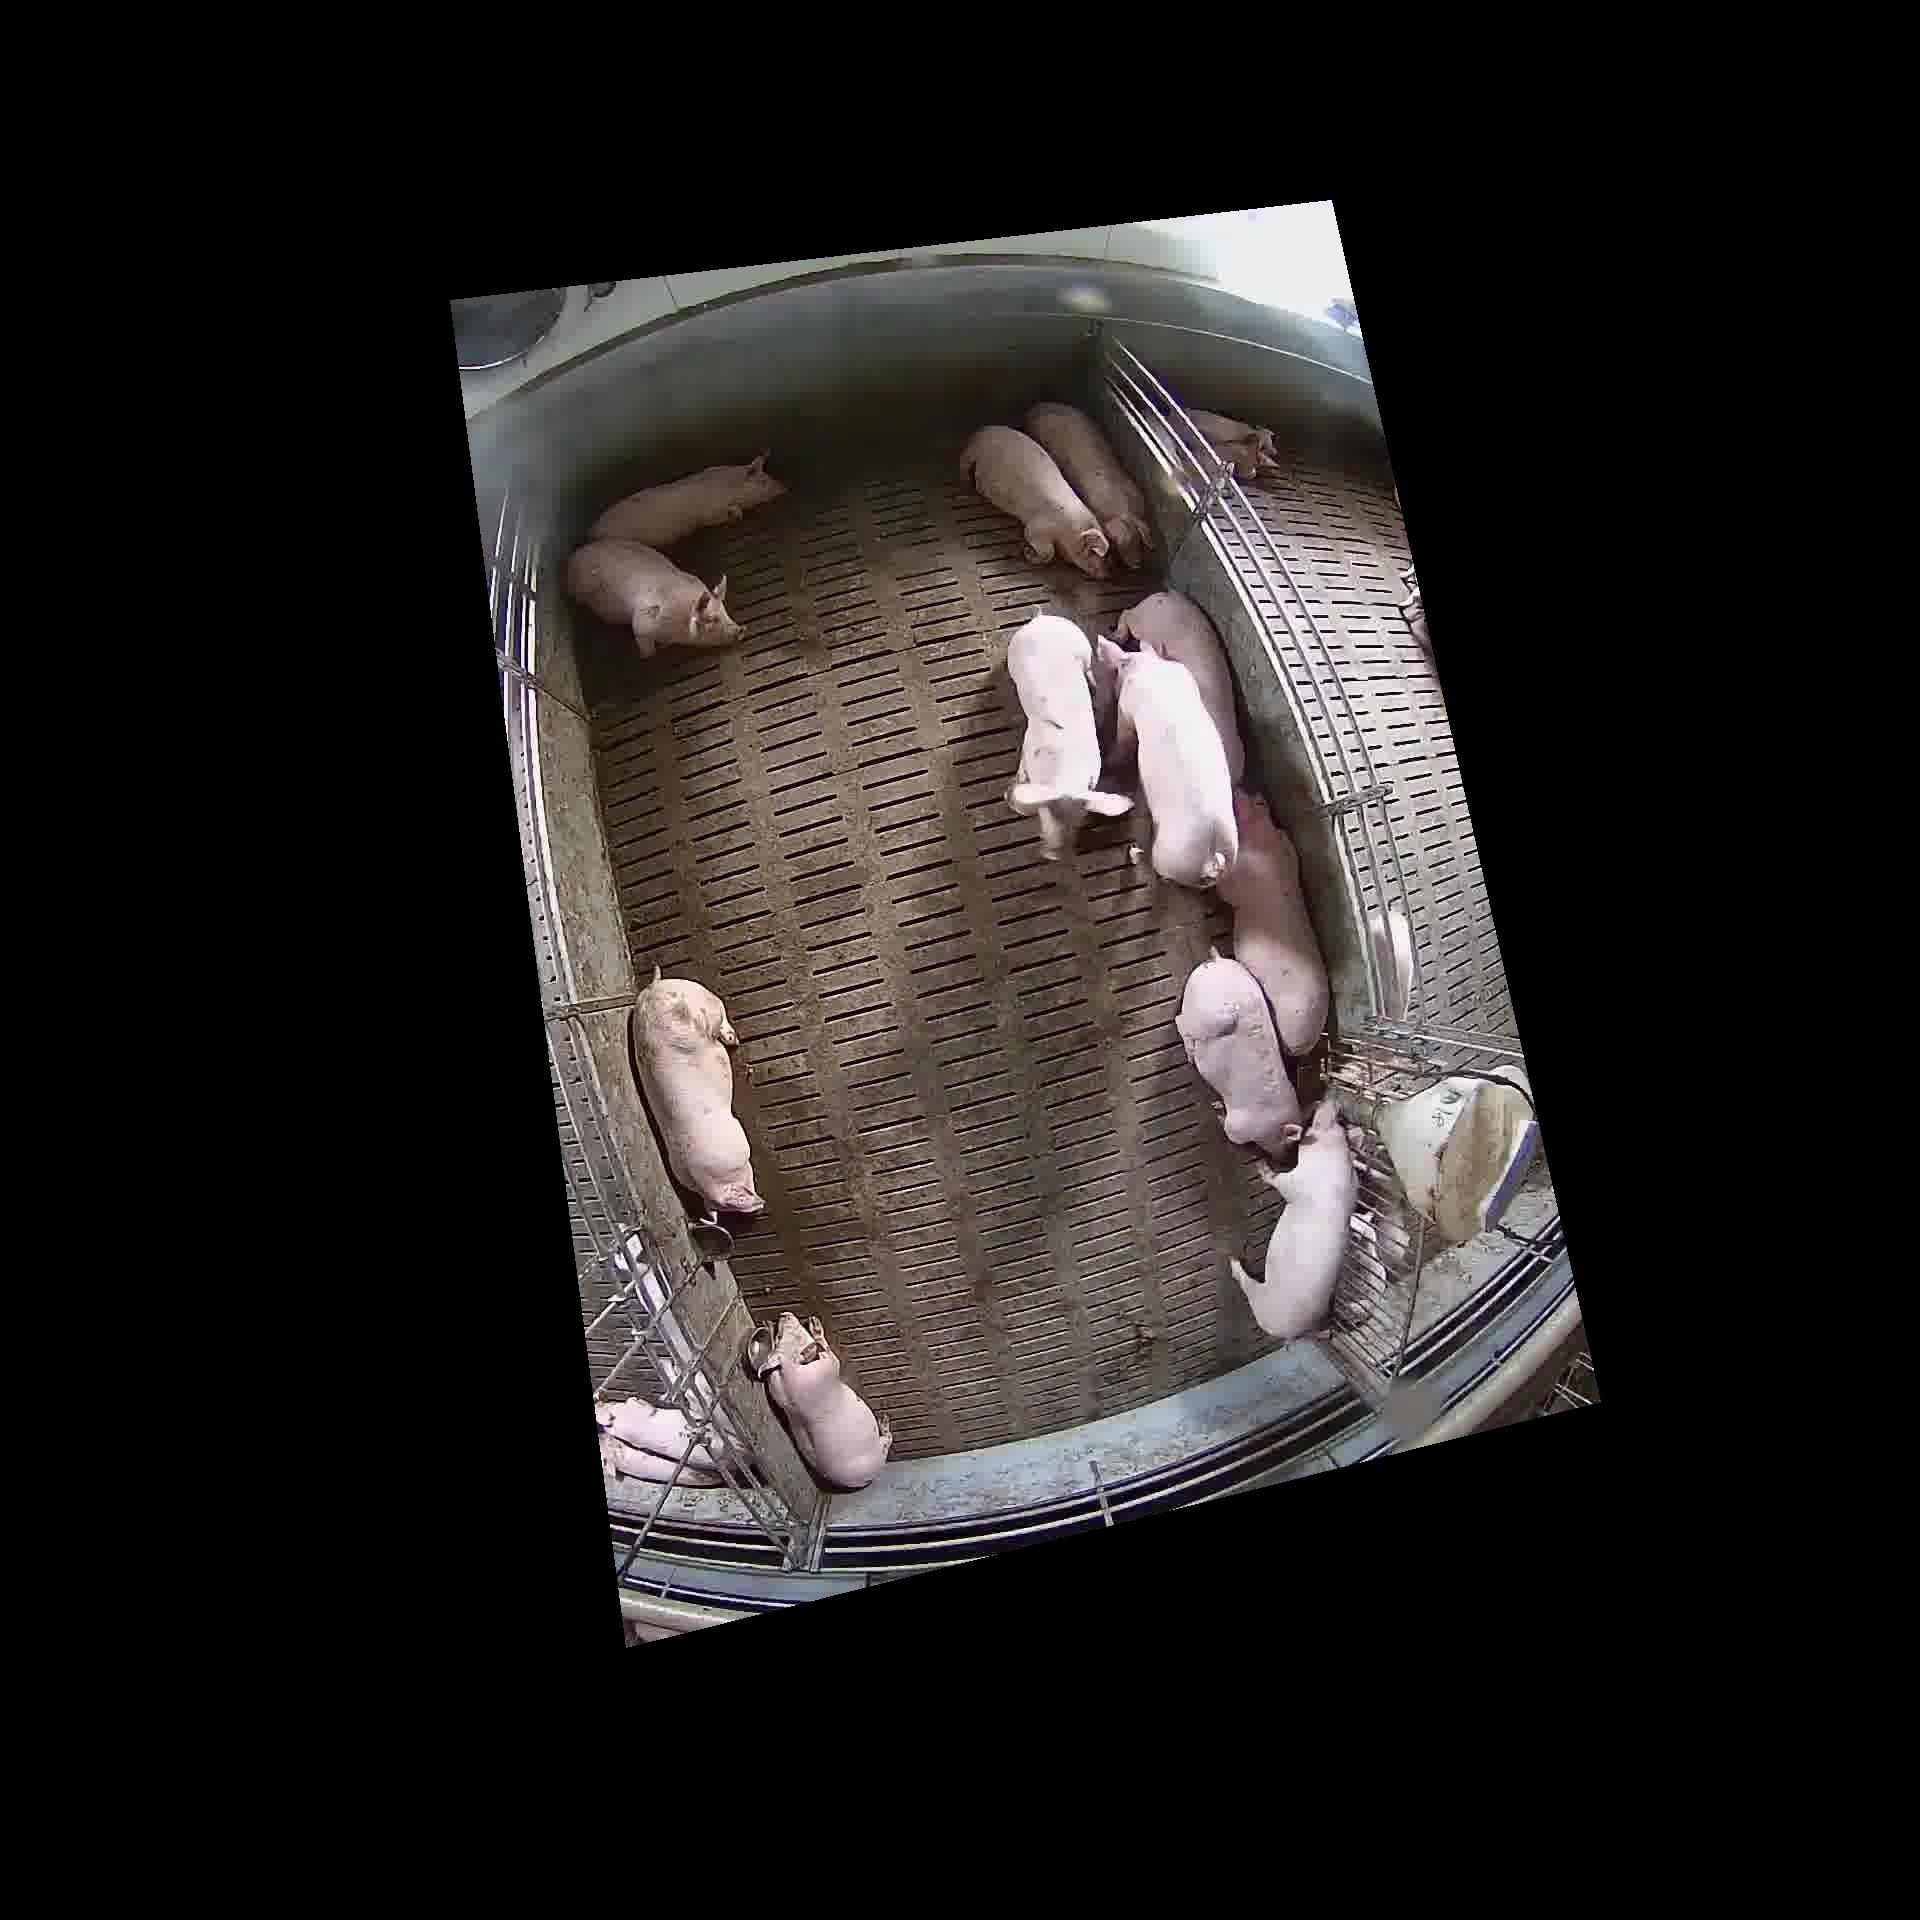pig: (1095, 641, 1235, 883), (630, 974, 760, 1216), (1007, 613, 1128, 858), (1233, 1100, 1354, 1337), (1114, 588, 1241, 785), (1176, 954, 1297, 1151), (1233, 793, 1325, 1052), (758, 1311, 889, 1486), (960, 425, 1106, 574), (1027, 402, 1148, 565), (565, 540, 731, 653), (588, 450, 782, 543)
